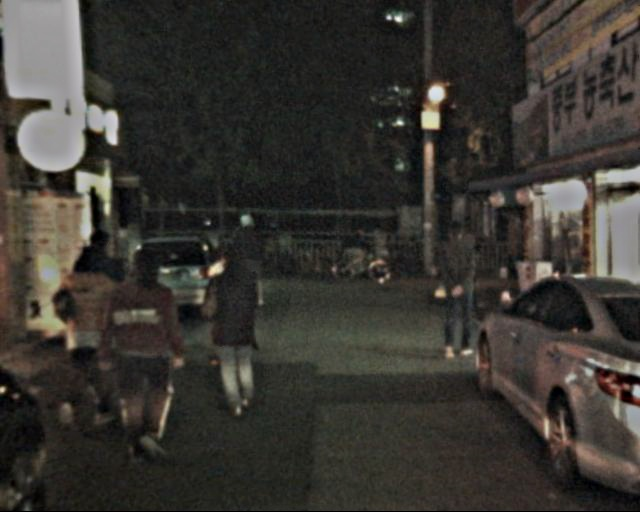person: (107, 250, 191, 460), (54, 244, 131, 427), (196, 240, 270, 416), (70, 226, 141, 383), (425, 220, 487, 365), (227, 209, 273, 309), (340, 223, 370, 281)
